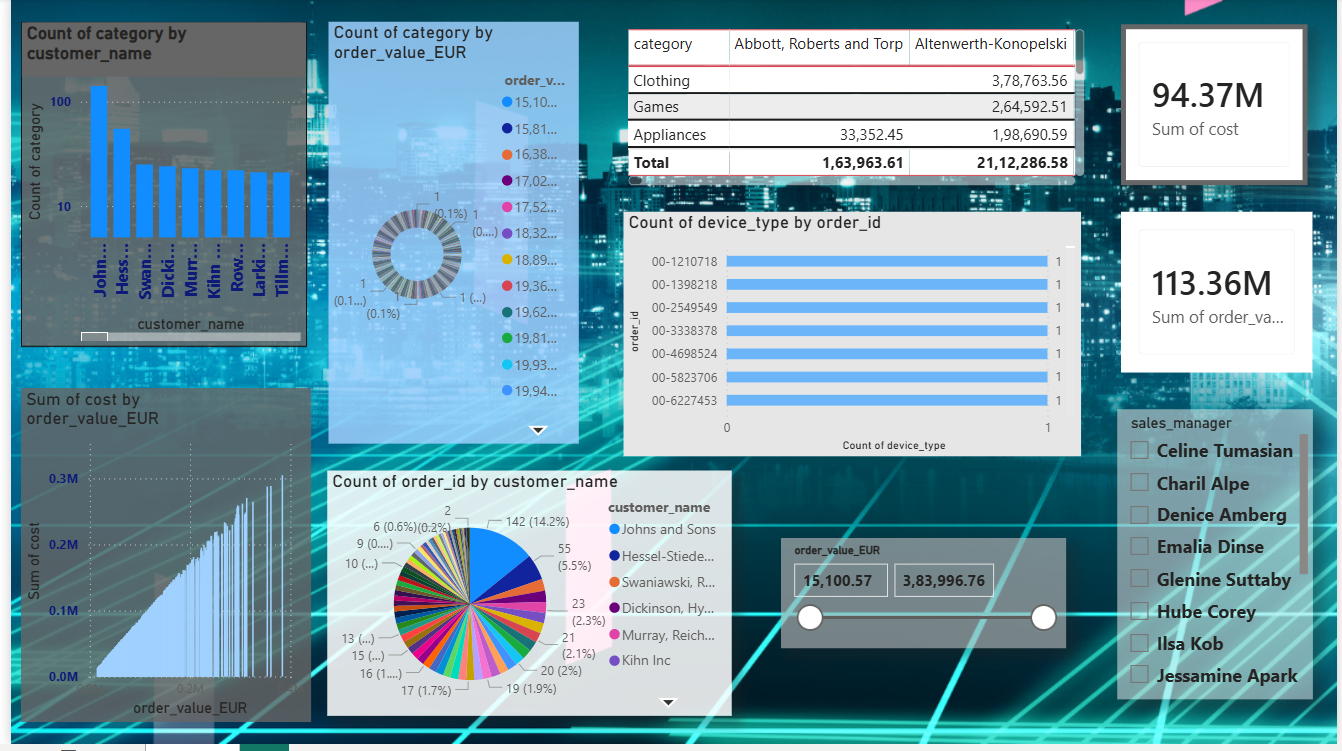

The dashboard page shown, as its layout file describes it:
{"tool":"powerbi","page":{"name":"Page 1","canvas":[1280,720],"ordinal":0},"visuals":[{"type":"columnChart","fields":{"Category":["Sales-Export_2019-2020 (2).customer_name"],"Y":["CountNonNull(Sales-Export_2019-2020 (2).category)"]},"box":[10,22.5,276.2,313.8],"z":0},{"type":"lineStackedColumnComboChart","fields":{"Category":["Sales-Export_2019-2020 (2). order_value_EUR "],"Y":["Sum(Sales-Export_2019-2020 (2). cost )"]},"box":[10,376.2,280,322.5],"z":1},{"type":"pivotTable","fields":{"Rows":["Sales-Export_2019-2020 (2).category"],"Columns":["Sales-Export_2019-2020 (2).customer_name"],"Values":["Sum(Sales-Export_2019-2020 (2). cost )"]},"box":[591.2,25,450,160],"z":2},{"type":"cardVisual","fields":{"Data":["Sum(Sales-Export_2019-2020 (2). cost )"]},"box":[1071.2,25,180,155],"z":3},{"type":"pieChart","fields":{"Category":["Sales-Export_2019-2020 (2).customer_name"],"Y":["CountNonNull(Sales-Export_2019-2020 (2).order_id)"]},"box":[305.7,455.7,390,237.1],"z":6},{"type":"slicer","fields":{"Values":["Sales-Export_2019-2020 (2).sales_manager"]},"box":[1067.5,397.5,188.8,280],"z":7},{"type":"donutChart","fields":{"Category":["Sales-Export_2019-2020 (2). order_value_EUR "],"Y":["CountNonNull(Sales-Export_2019-2020 (2).category)"]},"box":[306.2,22.5,241.2,407.5],"z":8},{"type":"slicer","fields":{"Values":["Sales-Export_2019-2020 (2). order_value_EUR "]},"box":[742.5,483.8,275,106.2],"z":9},{"type":"barChart","fields":{"Category":["Sales-Export_2019-2020 (2).order_id"],"Y":["CountNonNull(Sales-Export_2019-2020 (2).device_type)"]},"box":[591.2,206.2,441.2,236.2],"z":10},{"type":"cardVisual","fields":{"Data":["Sum(Sales-Export_2019-2020 (2). order_value_EUR )"]},"box":[1071.2,206.2,185,155],"z":11}]}

Visuals, with their boxes in screenshot pixels (x1, y1, x2, y2), scaled from the page's 1280x720 canvas onto the 1342x751 screenshot:
columnChart - Sales-Export_2019-2020 (2).customer_name x CountNonNull(Sales-Export_2019-2020 (2).category): Rect(10, 23, 300, 351)
lineStackedColumnComboChart - Sales-Export_2019-2020 (2). order_value_EUR  x Sum(Sales-Export_2019-2020 (2). cost ): Rect(10, 392, 304, 729)
pivotTable - Sales-Export_2019-2020 (2).category x Sales-Export_2019-2020 (2).customer_name: Rect(620, 26, 1092, 193)
cardVisual - Sum(Sales-Export_2019-2020 (2). cost ): Rect(1123, 26, 1312, 188)
pieChart - Sales-Export_2019-2020 (2).customer_name x CountNonNull(Sales-Export_2019-2020 (2).order_id): Rect(321, 475, 729, 723)
slicer - Sales-Export_2019-2020 (2).sales_manager: Rect(1119, 415, 1317, 707)
donutChart - Sales-Export_2019-2020 (2). order_value_EUR  x CountNonNull(Sales-Export_2019-2020 (2).category): Rect(321, 23, 574, 449)
slicer - Sales-Export_2019-2020 (2). order_value_EUR : Rect(778, 505, 1067, 615)
barChart - Sales-Export_2019-2020 (2).order_id x CountNonNull(Sales-Export_2019-2020 (2).device_type): Rect(620, 215, 1082, 461)
cardVisual - Sum(Sales-Export_2019-2020 (2). order_value_EUR ): Rect(1123, 215, 1317, 377)
